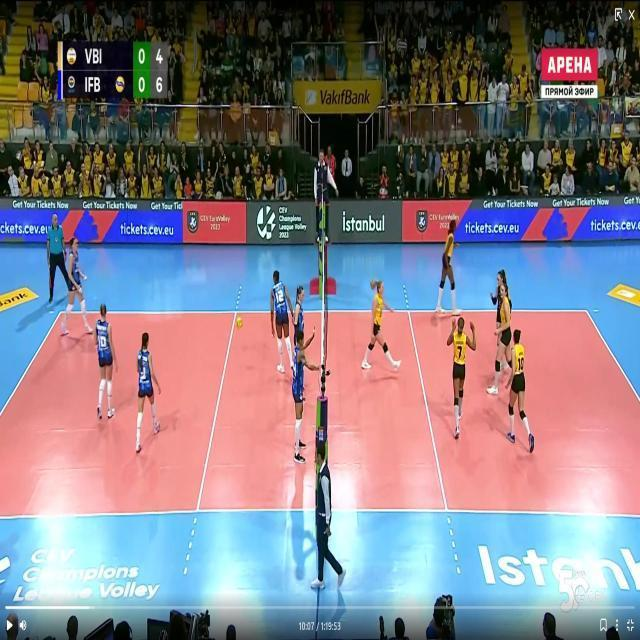volleyball: (235, 317, 244, 328)
